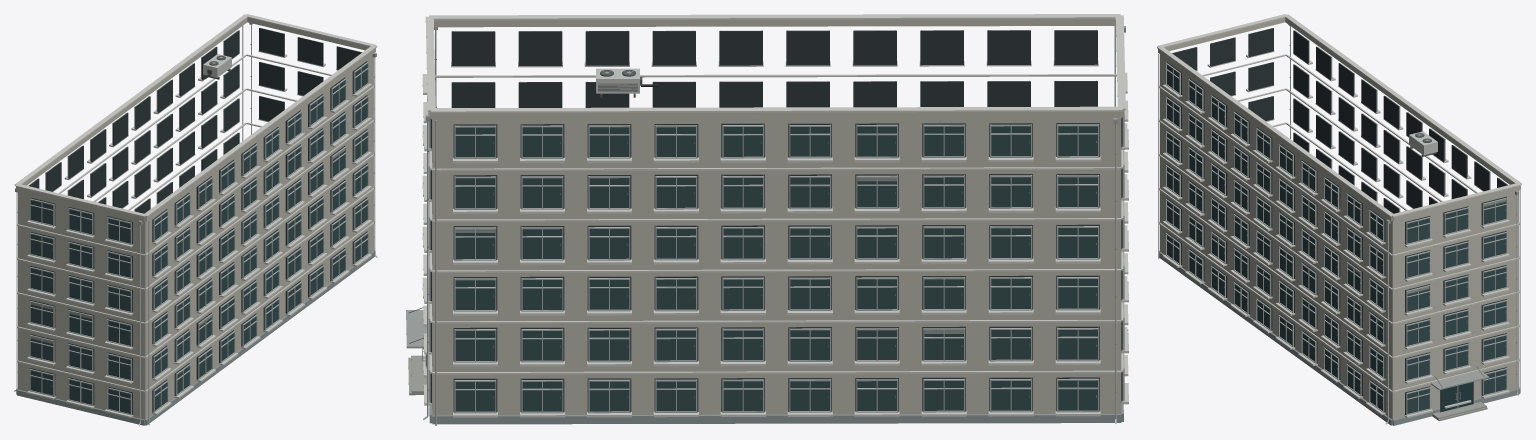
File: osm_way_225265351.glb
3 views of the same model, side by side, from view 1: azimuth 30°, elevation 25°; view 2: azimuth 150°, elevation 25°; view 3: azimuth 270°, elevation 25° (orthographic). The views are drawn at different scales.
Parts seen in each view (by area): view 1: Windows and facade details | osm_way_225265351, Architecture | osm_way_225265351, Roof services | osm_way_225265351, EXTERIOR::osm_way_225265351::rainwater and roof service deta, EXTERIOR::osm_way_225265351::native pane seals and hardware; view 2: Windows and facade details | osm_way_225265351, Architecture | osm_way_225265351, Roof services | osm_way_225265351, EXTERIOR::osm_way_225265351::rainwater and roof service deta, EXTERIOR::osm_way_225265351::inferred entry doors canopy and; view 3: Windows and facade details | osm_way_225265351, Architecture | osm_way_225265351, Roof services | osm_way_225265351, EXTERIOR::osm_way_225265351::inferred entry doors canopy and, EXTERIOR::osm_way_225265351::rainwater and roof service deta.
Boxes of the visible parts, left/top/right/bottom form: Windows and facade details | osm_way_225265351: left=27, top=25, right=371, bottom=425; Architecture | osm_way_225265351: left=16, top=17, right=375, bottom=425; Roof services | osm_way_225265351: left=14, top=14, right=377, bottom=217; EXTERIOR::osm_way_225265351::rainwater and roof service deta: left=14, top=23, right=377, bottom=425; EXTERIOR::osm_way_225265351::native pane seals and hardware: left=30, top=73, right=367, bottom=404; Windows and facade details | osm_way_225265351: left=422, top=26, right=1128, bottom=425; Architecture | osm_way_225265351: left=429, top=19, right=1124, bottom=424; Roof services | osm_way_225265351: left=425, top=14, right=1125, bottom=112; EXTERIOR::osm_way_225265351::rainwater and roof service deta: left=423, top=26, right=1128, bottom=423; EXTERIOR::osm_way_225265351::inferred entry doors canopy and: left=406, top=307, right=426, bottom=395; Windows and facade details | osm_way_225265351: left=1158, top=28, right=1520, bottom=418; Architecture | osm_way_225265351: left=1158, top=18, right=1520, bottom=425; Roof services | osm_way_225265351: left=1157, top=14, right=1521, bottom=217; EXTERIOR::osm_way_225265351::inferred entry doors canopy and: left=1431, top=367, right=1489, bottom=421; EXTERIOR::osm_way_225265351::rainwater and roof service deta: left=1288, top=24, right=1518, bottom=424.
Size of the model in its own units: 40.77 by 20.58 by 31.05.
